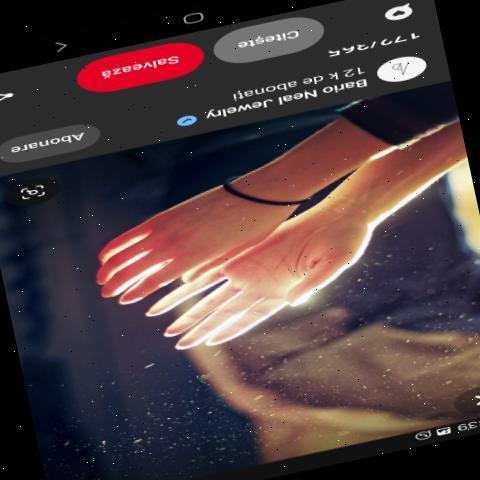Hands: (160, 213, 394, 401), (45, 167, 265, 309)
